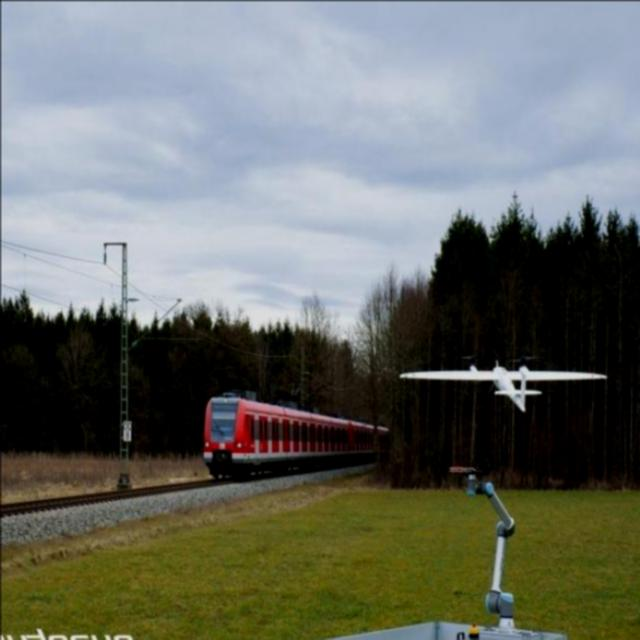plane: (398, 352, 608, 412)
